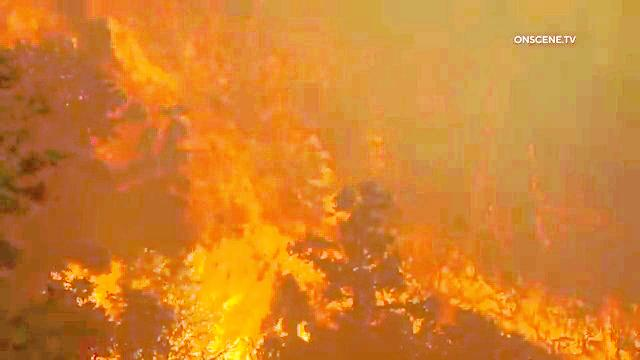fire: (109, 255, 291, 360), (451, 271, 640, 360)
